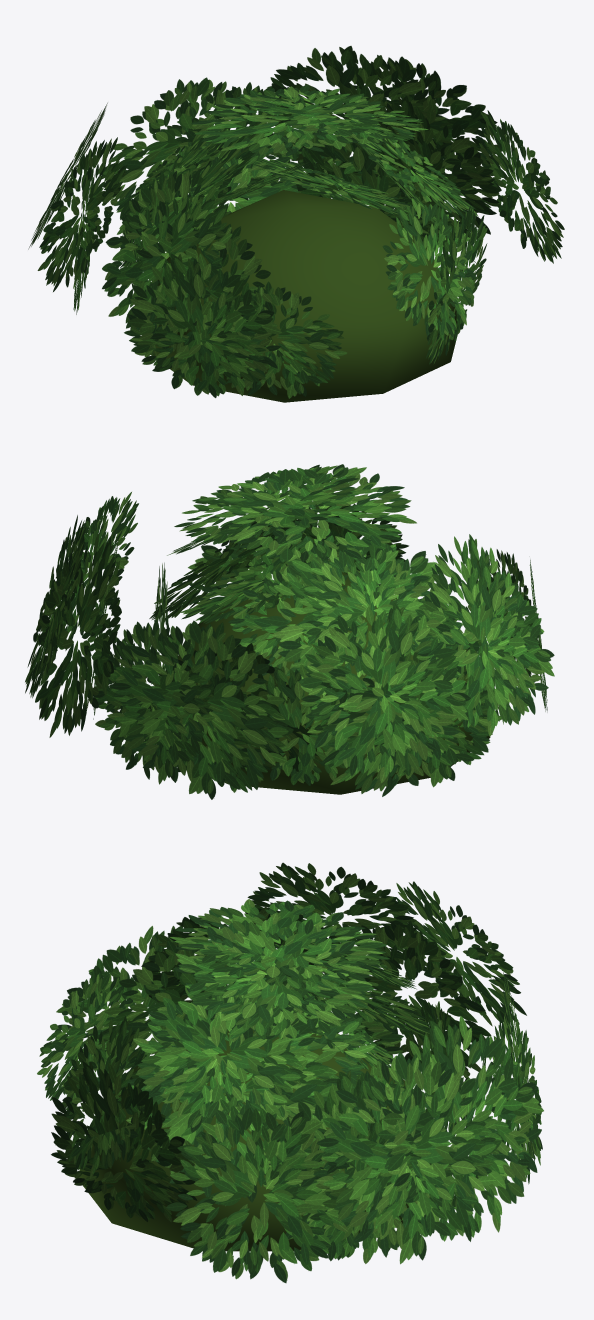
The model's file is n-bush.glb.
The picture shows the model from 3 angles, top to bottom: view 1: azimuth 30°, elevation 25°; view 2: azimuth 150°, elevation 25°; view 3: azimuth 270°, elevation 25°; orthographic projection. The views are drawn at different scales.
Visible parts, largest first — view 1: bush, bush_core; view 2: bush, bush_core; view 3: bush, bush_core.
Boxes of the visible parts, x1=… form: bush: x1=28, y1=46, x2=564, y2=398; bush_core: x1=149, y1=190, x2=457, y2=402; bush: x1=25, y1=464, x2=554, y2=799; bush_core: x1=155, y1=572, x2=490, y2=794; bush: x1=37, y1=862, x2=543, y2=1283; bush_core: x1=79, y1=1028, x2=408, y2=1251.
Bounding box in the file's own units: 1.91 × 0.9008 × 1.72.
Materials: 2 (1 with a texture image).
